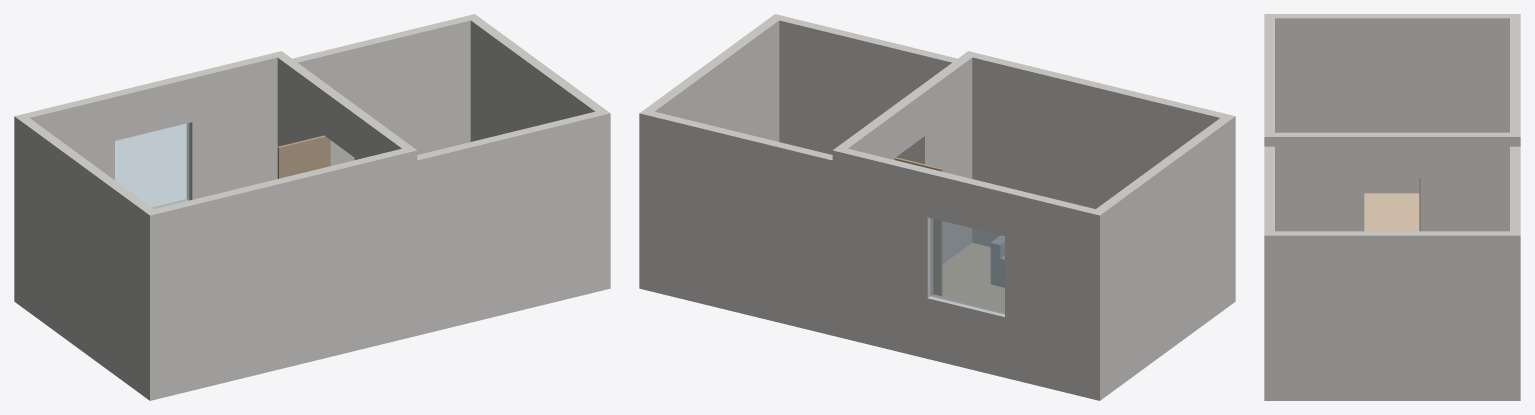
Rendered from demo-model.glb.
3 renders of one model, left to right at view 1: azimuth 30°, elevation 25°; view 2: azimuth 150°, elevation 25°; view 3: azimuth 270°, elevation 25°, orthographic. The views are drawn at different scales.
Parts seen in each view (by area): view 1: wall_422123a7-acfb-427c-a4b6-891ba71e119c, wall_f2fb30cd-e78e-45e1-b1b4-e1519f6edbae, wall_efadba55-3670-40a8-b544-8b886749e4c7, wall_64b4ea72-26ed-4392-8d6d-758e2d18f59d, wall_d8795977-3f0b-469e-8c1e-5f41cadcf45a, wall_feef2e25-6df1-4f02-bec5-d8e6640a22a5, wall_8d8ba733-e560-4154-b6c1-be3b2a751ba8, glass_fd9d4c66-304e-4aab-b1a4-0b1d222be93c, door_92722766-8770-478f-814e-b96f456c50ce; view 2: wall_64b4ea72-26ed-4392-8d6d-758e2d18f59d, wall_d8795977-3f0b-469e-8c1e-5f41cadcf45a, wall_efadba55-3670-40a8-b544-8b886749e4c7, wall_422123a7-acfb-427c-a4b6-891ba71e119c, wall_f2fb30cd-e78e-45e1-b1b4-e1519f6edbae, wall_feef2e25-6df1-4f02-bec5-d8e6640a22a5, wall_8d8ba733-e560-4154-b6c1-be3b2a751ba8, glass_fd9d4c66-304e-4aab-b1a4-0b1d222be93c, floor_311111d7-5484-43de-a047-94c24cf4264a, door_92722766-8770-478f-814e-b96f456c50ce, furniture_42b0810f-4637-494a-a968-094eb757cccc; view 3: wall_feef2e25-6df1-4f02-bec5-d8e6640a22a5, wall_efadba55-3670-40a8-b544-8b886749e4c7, wall_8d8ba733-e560-4154-b6c1-be3b2a751ba8, wall_d8795977-3f0b-469e-8c1e-5f41cadcf45a, floor_311111d7-5484-43de-a047-94c24cf4264a, wall_f2fb30cd-e78e-45e1-b1b4-e1519f6edbae, wall_64b4ea72-26ed-4392-8d6d-758e2d18f59d, wall_422123a7-acfb-427c-a4b6-891ba71e119c.
Part boxes in pixels (x1,y1,x2,y2): wall_422123a7-acfb-427c-a4b6-891ba71e119c: (144,146,417,400); wall_f2fb30cd-e78e-45e1-b1b4-e1519f6edbae: (417,109,610,335); wall_efadba55-3670-40a8-b544-8b886749e4c7: (14,114,159,400); wall_64b4ea72-26ed-4392-8d6d-758e2d18f59d: (14,51,286,302); wall_d8795977-3f0b-469e-8c1e-5f41cadcf45a: (292,14,479,164); wall_feef2e25-6df1-4f02-bec5-d8e6640a22a5: (466,14,610,290); wall_8d8ba733-e560-4154-b6c1-be3b2a751ba8: (273,51,417,336); glass_fd9d4c66-304e-4aab-b1a4-0b1d222be93c: (115,123,189,208); door_92722766-8770-478f-814e-b96f456c50ce: (277,135,330,178); wall_64b4ea72-26ed-4392-8d6d-758e2d18f59d: (832,146,1105,400); wall_d8795977-3f0b-469e-8c1e-5f41cadcf45a: (639,109,842,337); wall_efadba55-3670-40a8-b544-8b886749e4c7: (1090,114,1234,400); wall_422123a7-acfb-427c-a4b6-891ba71e119c: (963,51,1235,305); wall_f2fb30cd-e78e-45e1-b1b4-e1519f6edbae: (770,15,957,161); wall_feef2e25-6df1-4f02-bec5-d8e6640a22a5: (639,14,784,290); wall_8d8ba733-e560-4154-b6c1-be3b2a751ba8: (832,51,977,337); glass_fd9d4c66-304e-4aab-b1a4-0b1d222be93c: (930,218,1004,314); floor_311111d7-5484-43de-a047-94c24cf4264a: (943,243,1004,311); door_92722766-8770-478f-814e-b96f456c50ce: (894,157,942,295); furniture_42b0810f-4637-494a-a968-094eb757cccc: (991,235,1004,287); wall_feef2e25-6df1-4f02-bec5-d8e6640a22a5: (1264,231,1520,400); wall_efadba55-3670-40a8-b544-8b886749e4c7: (1264,14,1520,193); wall_8d8ba733-e560-4154-b6c1-be3b2a751ba8: (1264,132,1519,231); wall_d8795977-3f0b-469e-8c1e-5f41cadcf45a: (1510,146,1520,400); floor_311111d7-5484-43de-a047-94c24cf4264a: (1364,193,1419,231); wall_f2fb30cd-e78e-45e1-b1b4-e1519f6edbae: (1264,146,1274,400); wall_64b4ea72-26ed-4392-8d6d-758e2d18f59d: (1510,14,1520,146); wall_422123a7-acfb-427c-a4b6-891ba71e119c: (1264,14,1274,146).
Size of the model in its own units: 7.15 by 2.75 by 3.65.
